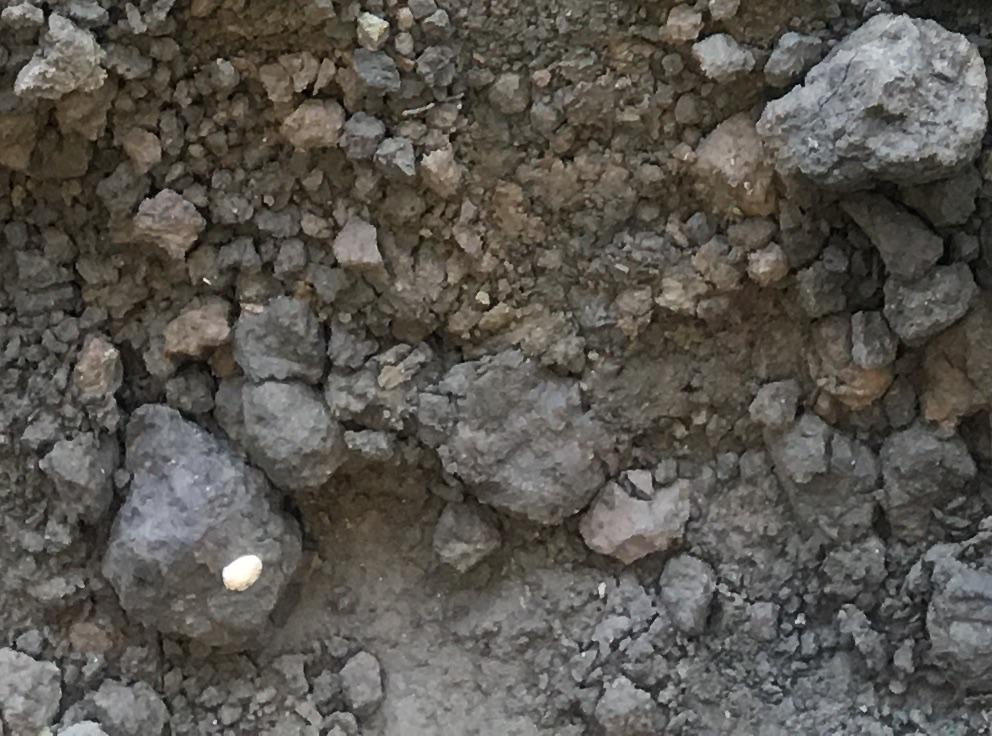block: (110, 402, 296, 640), (757, 9, 977, 193), (427, 359, 593, 524)
